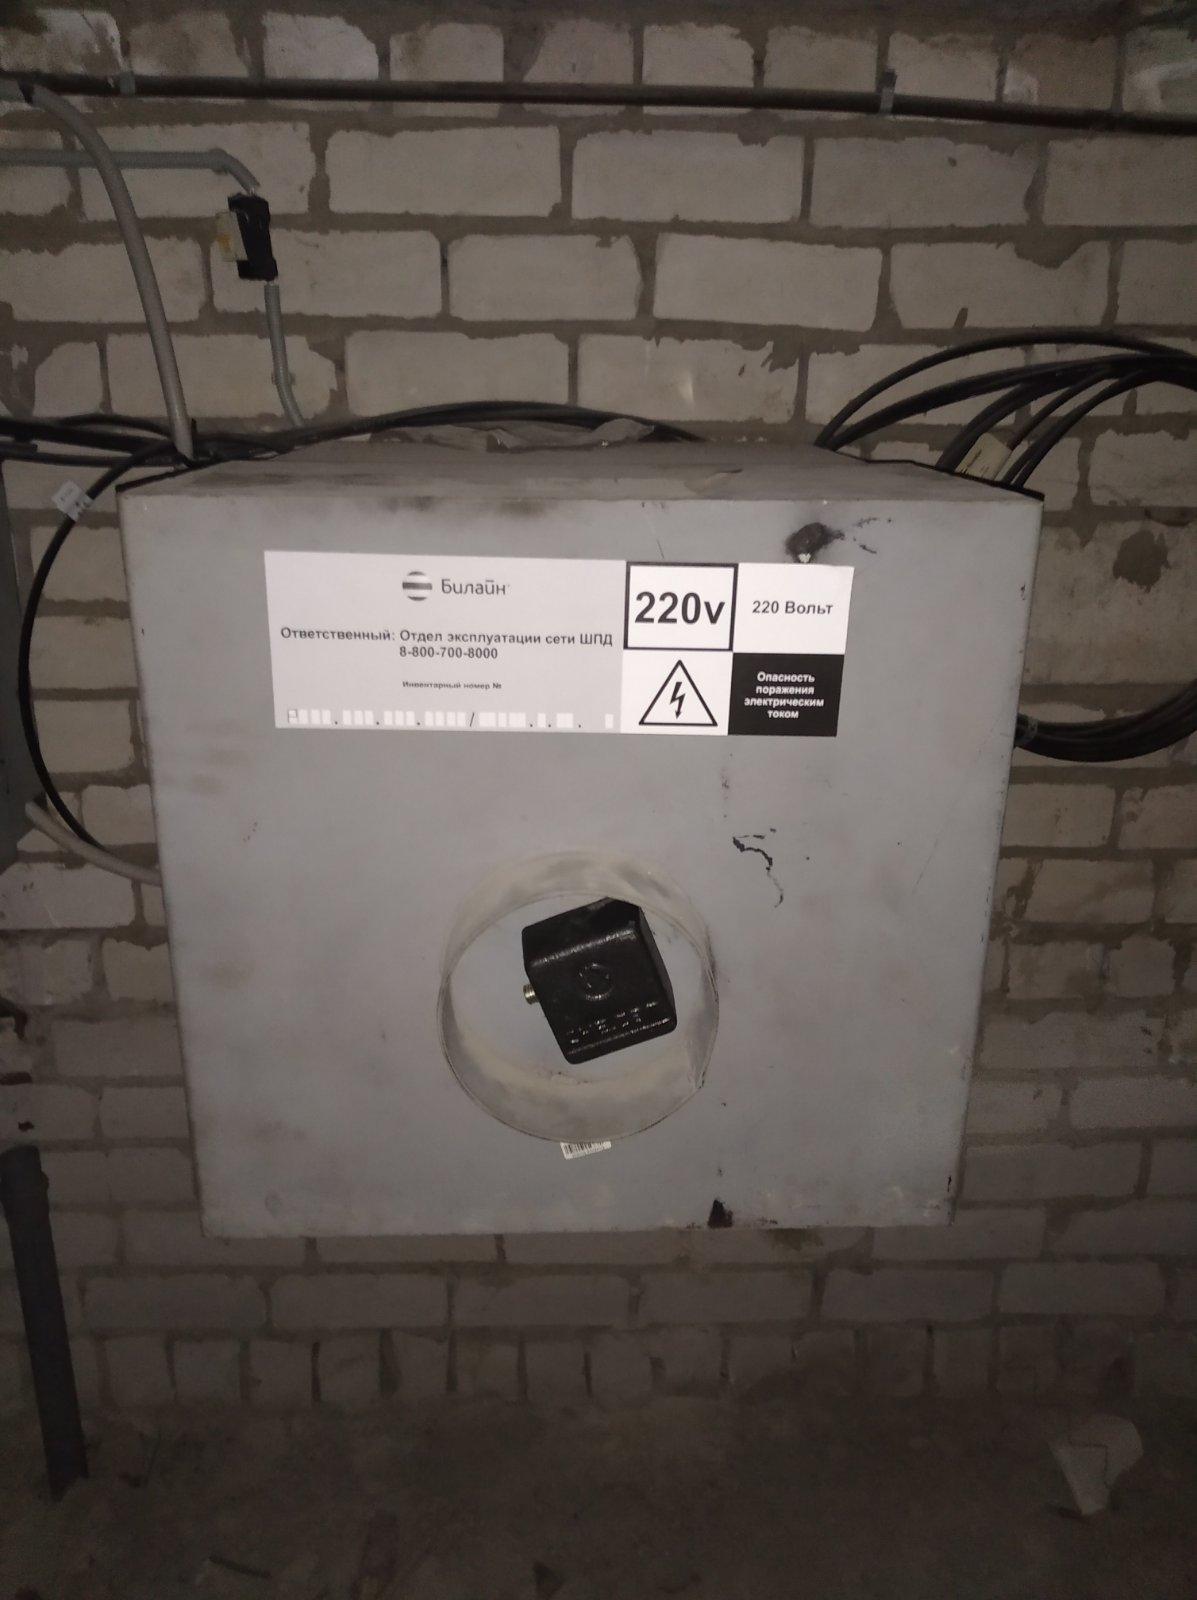shta-9: (97, 392, 1065, 1258)
